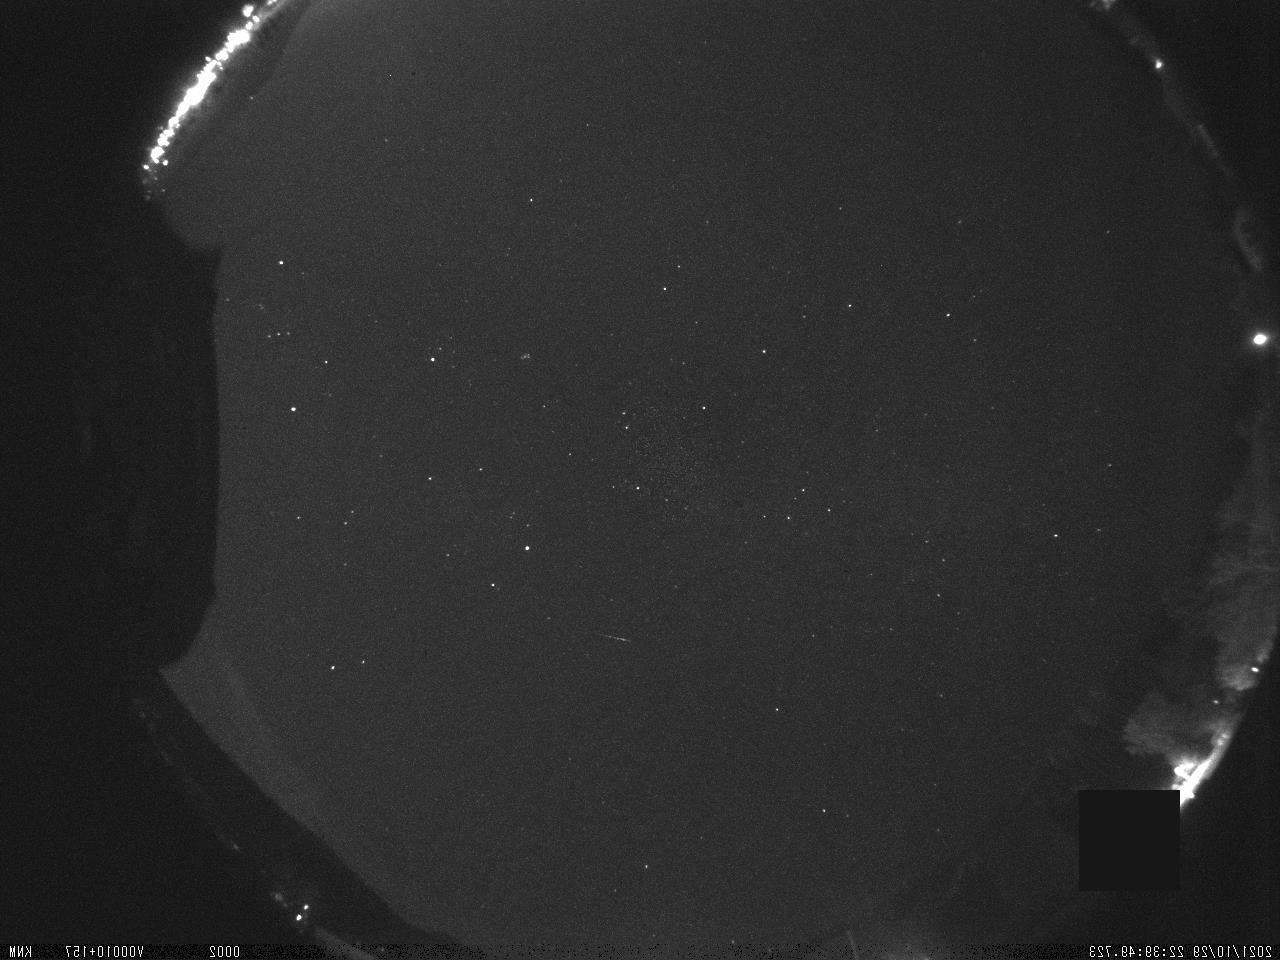meteor: (590, 615, 644, 659)
